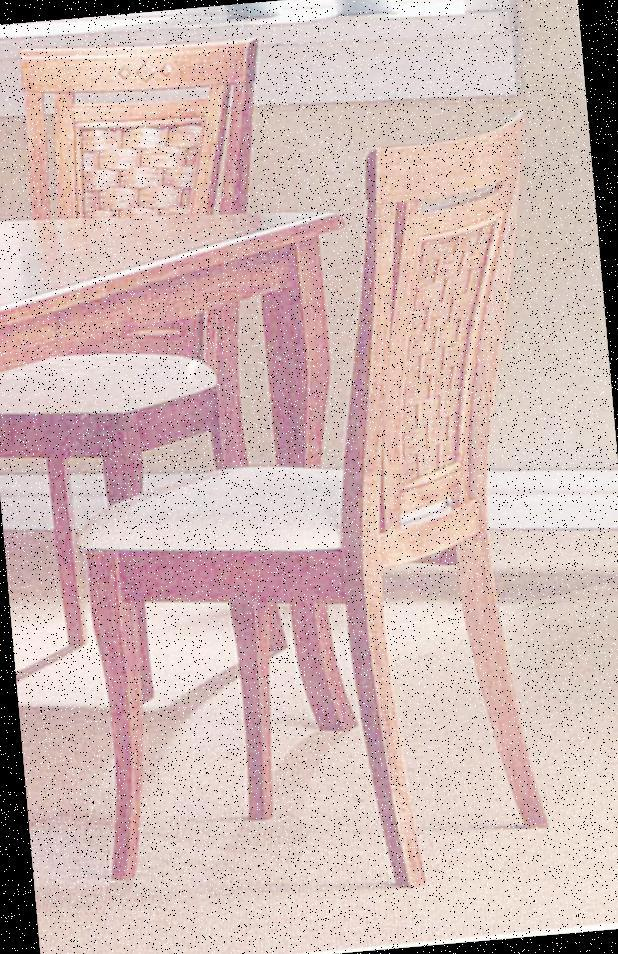Mesa: (0, 186, 361, 761)
Silla: (34, 110, 592, 918), (0, 30, 319, 697)
